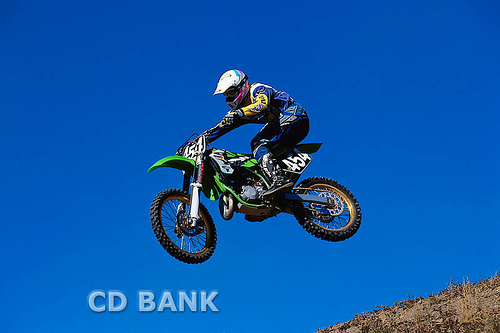helmet: (212, 70, 253, 107)
